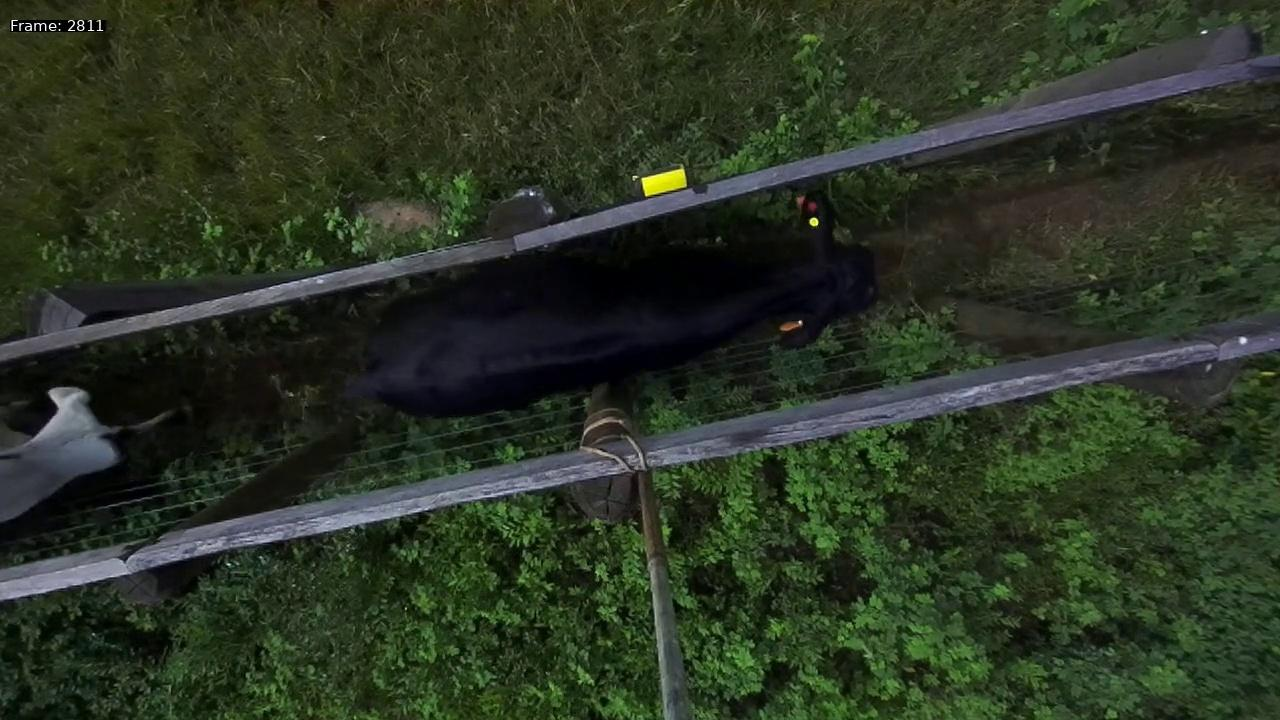cattle: (340, 182, 945, 432)
